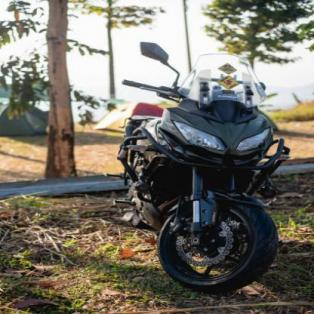Motocicleta: (98, 39, 294, 294)
